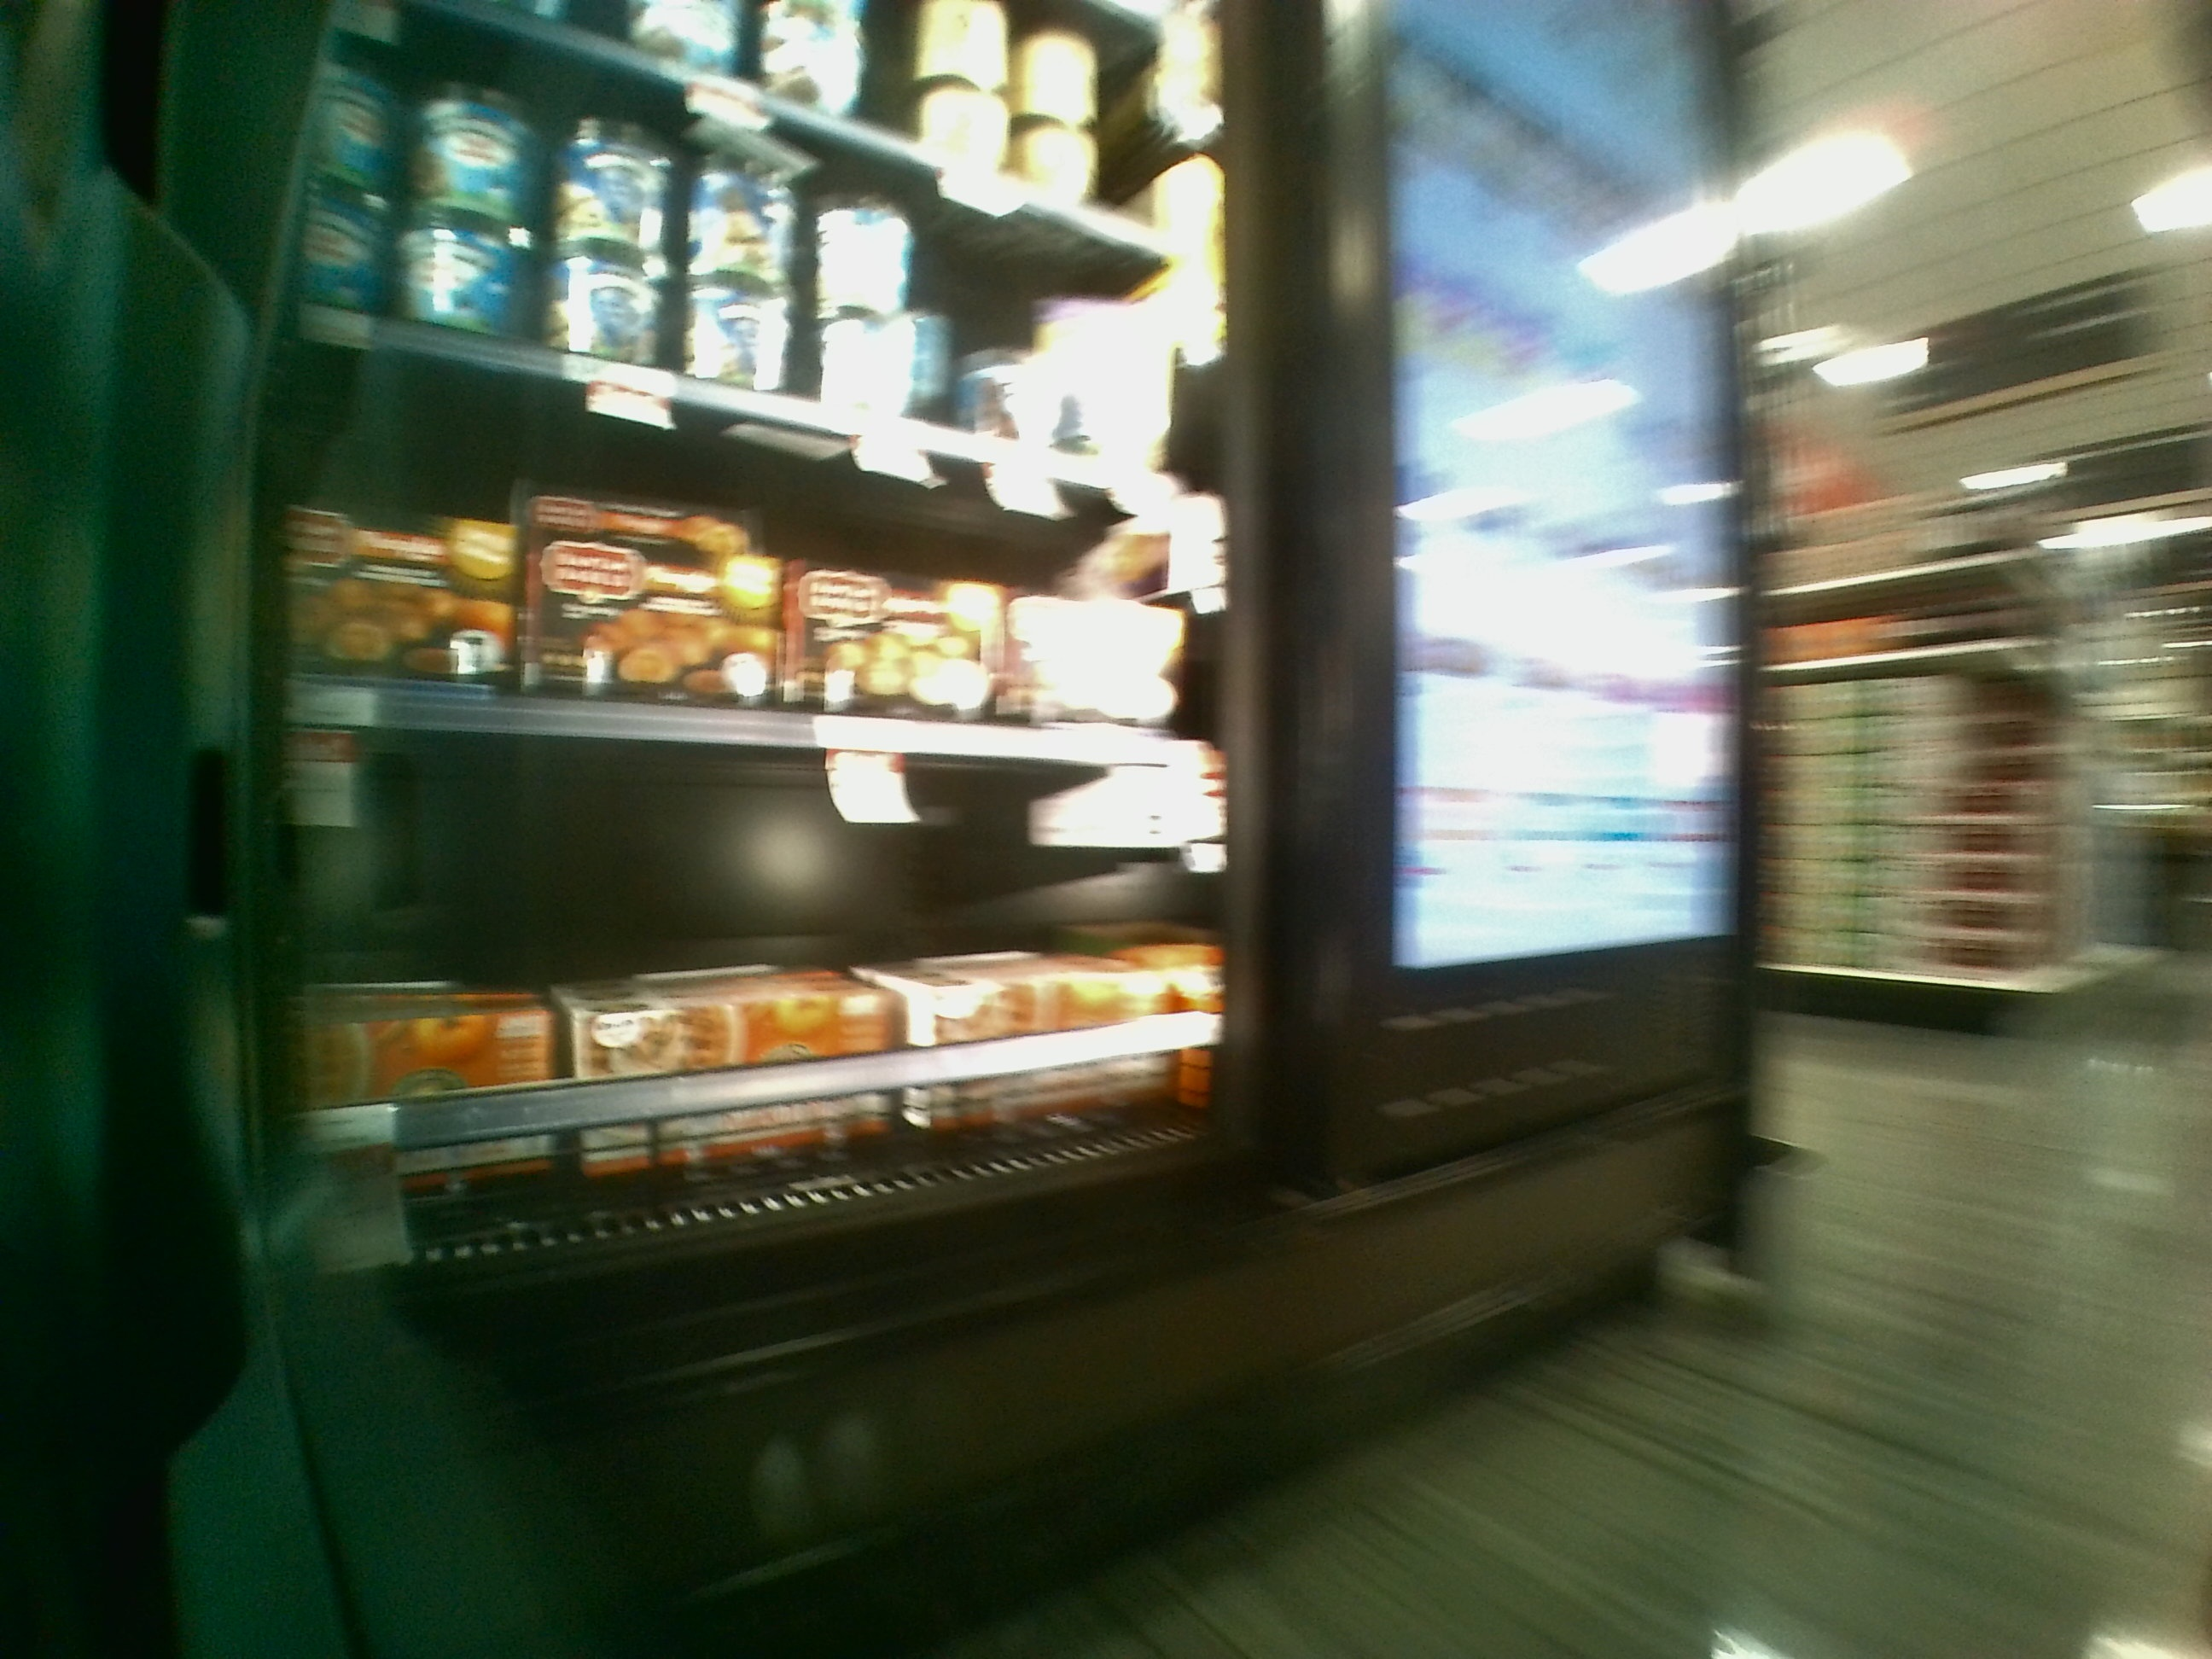shelf: (261, 708, 1258, 1223), (291, 342, 1251, 749)
